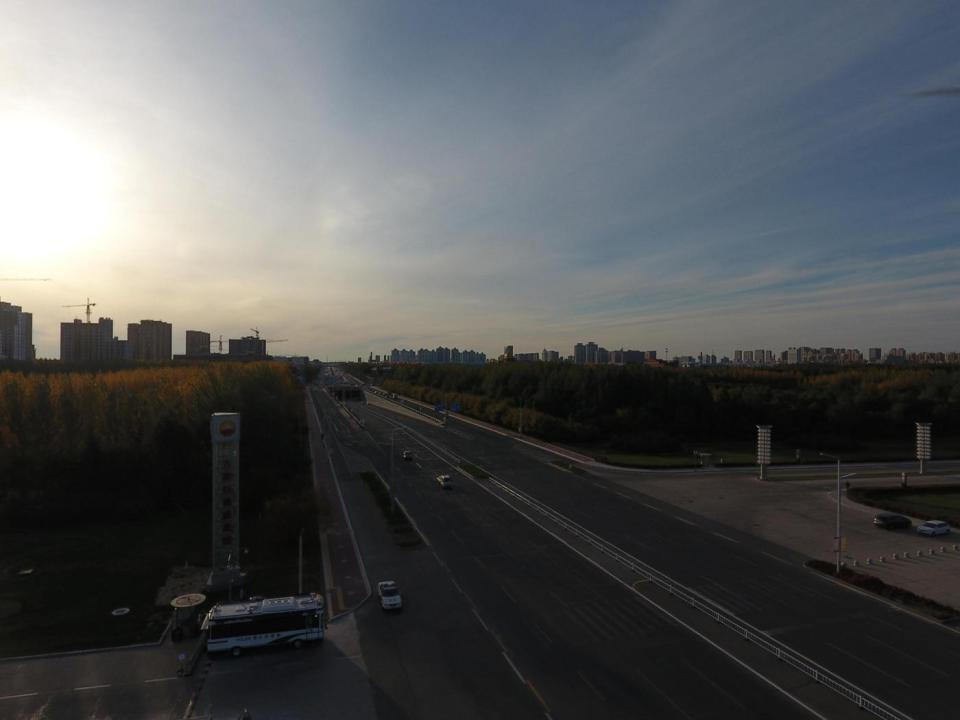bus: (206, 592, 328, 658)
car: (378, 580, 403, 610), (874, 514, 914, 530), (916, 520, 951, 537), (402, 450, 413, 461), (365, 401, 371, 405), (360, 400, 365, 404)
truck: (436, 475, 453, 488)
